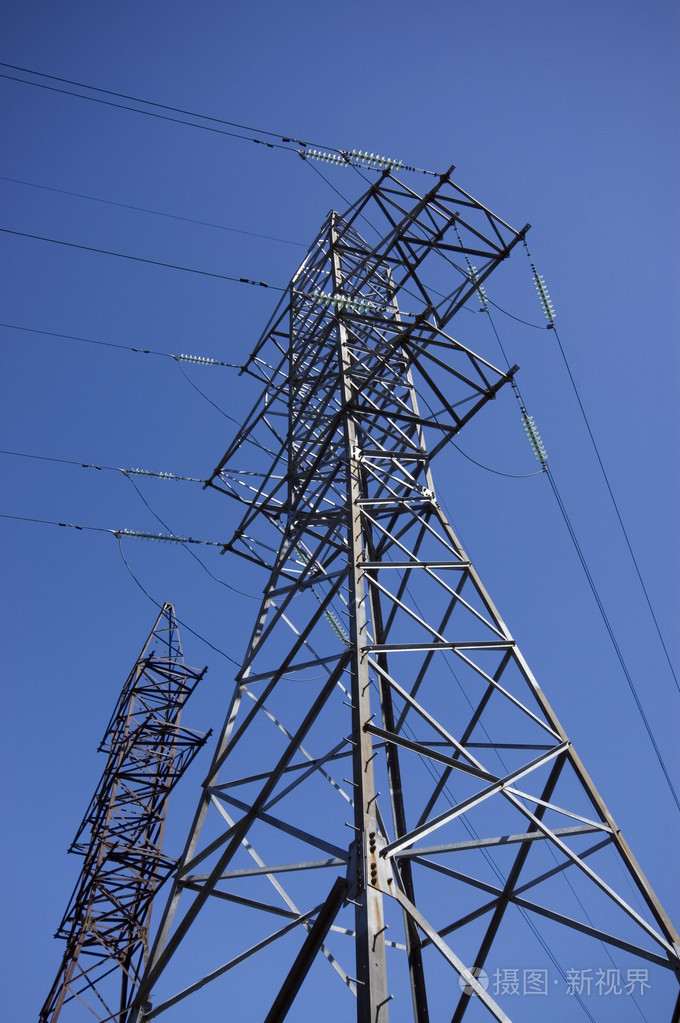insulator: (528, 271, 562, 323), (518, 409, 548, 462), (346, 147, 404, 171), (317, 291, 372, 314), (464, 261, 490, 306), (308, 148, 348, 169)
